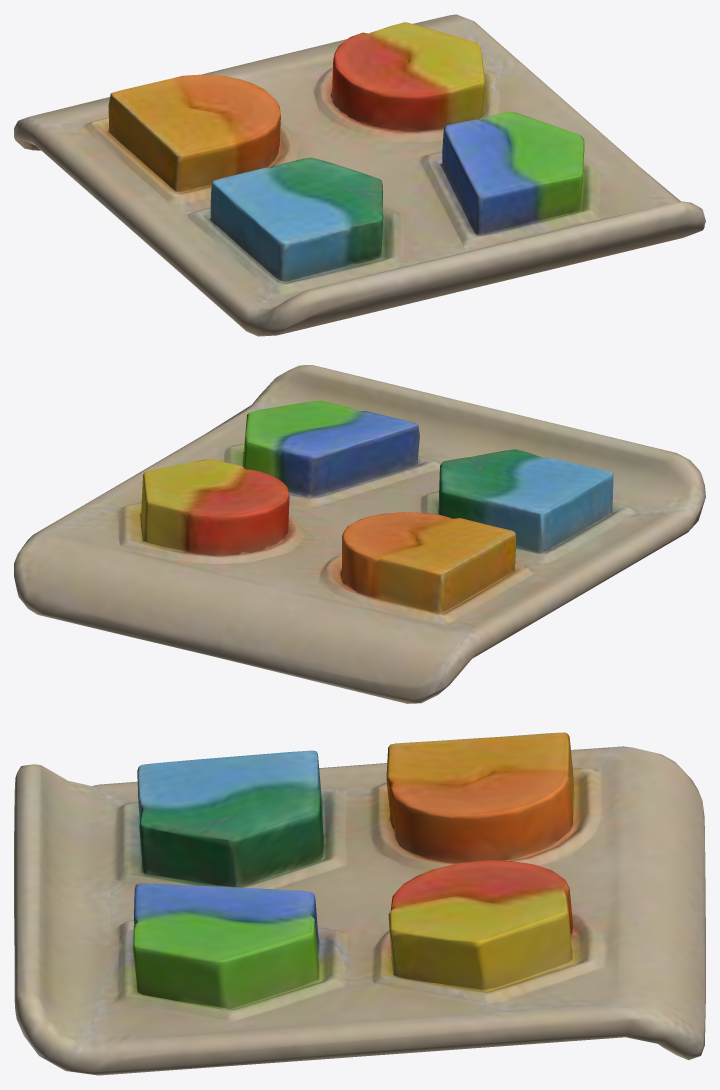
The model's file is gso_shape_matching_nxacpay9jdt.glb.
The picture shows the model from 3 angles, top to bottom: view 1: azimuth 30°, elevation 25°; view 2: azimuth 150°, elevation 25°; view 3: azimuth 270°, elevation 25°; orthographic projection. The views are drawn at different scales.
Parts seen in each view (by area): view 1: z-up-to-y-up; view 2: z-up-to-y-up; view 3: z-up-to-y-up.
Part boxes in pixels (box(x1,y1,x2,y2)): z-up-to-y-up: box(14, 14, 705, 336); z-up-to-y-up: box(14, 365, 705, 703); z-up-to-y-up: box(14, 732, 705, 1075).
Bounding box in the file's own units: 0.1749 × 0.0345 × 0.1892.
Materials: 1 (1 with a texture image).
